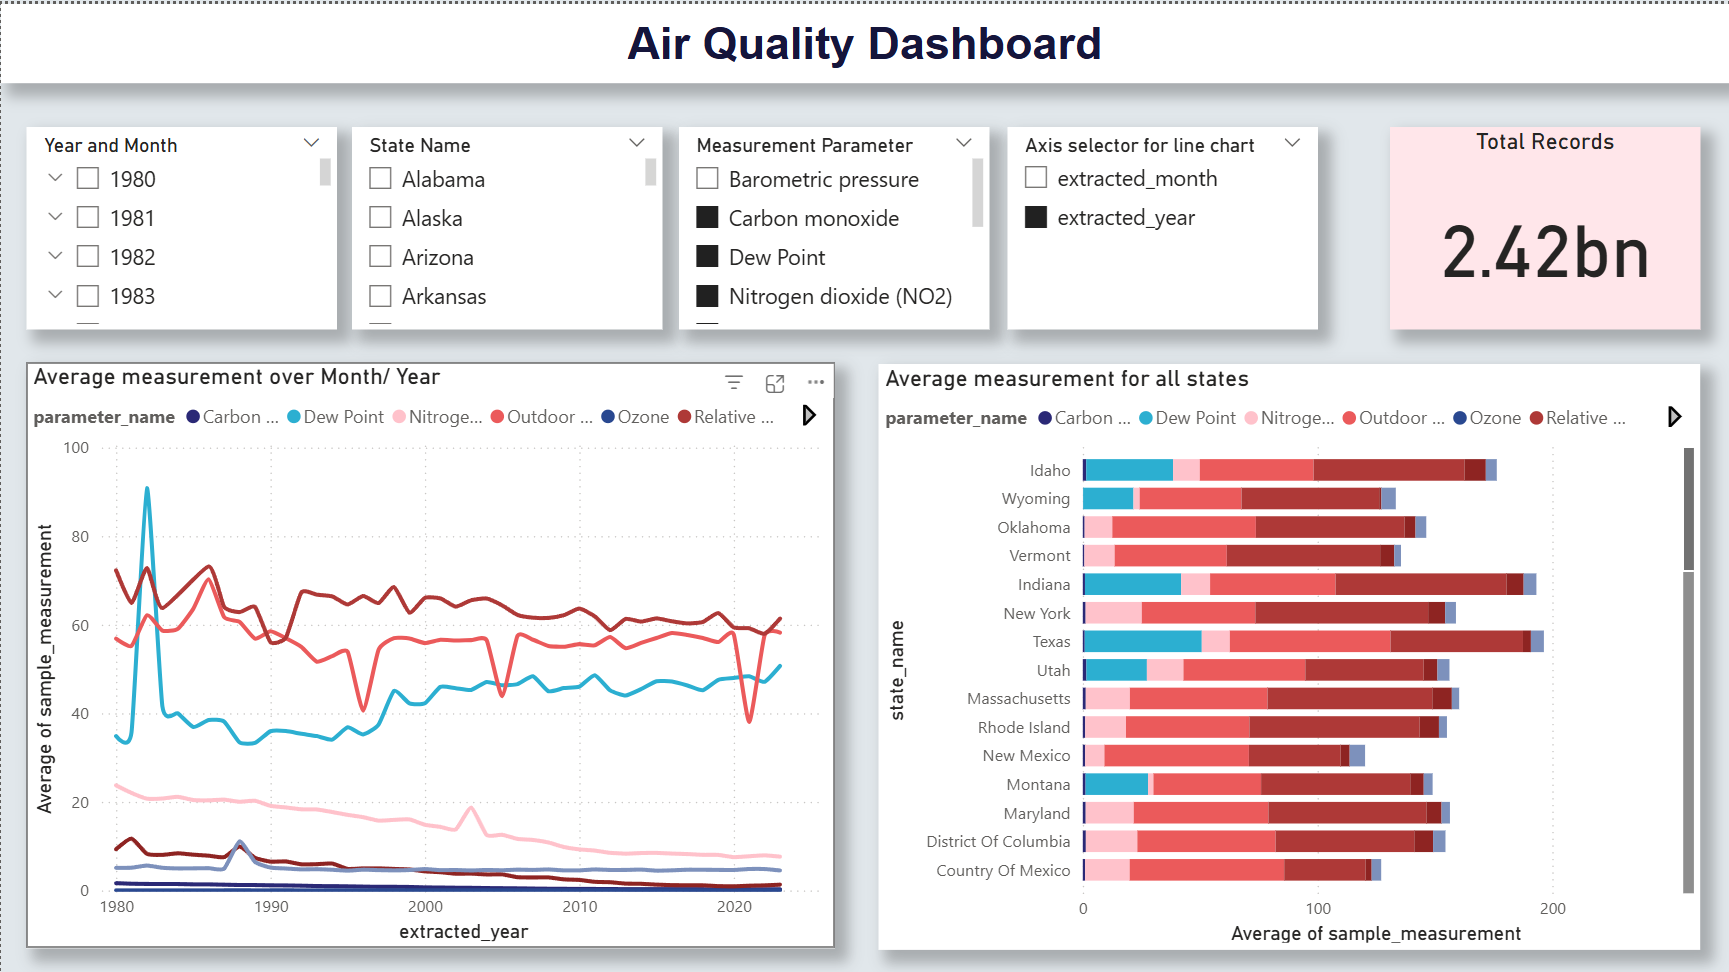

What the dashboard file says about the page in this screenshot:
{"tool":"powerbi","page":{"name":"AQS Summary","canvas":[1280,720],"ordinal":1},"visuals":[{"type":"shape","box":[0,0,1280,58.8],"z":0},{"type":"slicer","fields":{"Values":["combined_metrics_with_date.extracted_year","combined_metrics_with_date.extracted_month"]},"box":[18.8,91.2,230,150],"z":0},{"type":"slicer","fields":{"Values":["combined_metrics_with_date.state_name"]},"box":[260,91.2,230,150],"z":1000},{"type":"card","title":"Total Records","fields":{"Values":["CountNonNull(combined_metrics_with_date.fact_surr_key)"]},"box":[1028.8,91.2,230,150],"z":1001},{"type":"lineChart","title":"Average measurement over Month/ Year","fields":{"Y":["Avg(combined_metrics_with_date.sample_measurement)"],"Series":["combined_metrics_with_date.parameter_name"],"Category":["combined_metrics_with_date.extracted_year"]},"box":[18.8,265,598.8,433.8],"z":1002},{"type":"barChart","title":"Average measurement for all states","fields":{"Series":["combined_metrics_with_date.parameter_name"],"Category":["combined_metrics_with_date.state_name"],"Y":["Avg(combined_metrics_with_date.sample_measurement)"]},"box":[650,266.2,608.8,433.8],"z":1003},{"type":"slicer","fields":{"Values":["combined_metrics_with_date.parameter_name"]},"box":[502.5,91.2,230,150],"z":2000},{"type":"slicer","fields":{"Values":["x_axis_selector.x_axis_selector"]},"box":[745,91.2,230,150],"z":2001}]}

Visuals, with their boxes in screenshot pixels (x1, y1, x2, y2), scaled from the page's 1280x720 canvas onto the 1729x972 screenshot:
shape: 0:0:1728:79
slicer - combined_metrics_with_date.extracted_year x combined_metrics_with_date.extracted_month: 25:123:336:326
slicer - combined_metrics_with_date.state_name: 351:123:662:326
"Total Records" card: 1390:123:1700:326
"Average measurement over Month/ Year" lineChart: 25:358:834:943
"Average measurement for all states" barChart: 878:359:1700:945
slicer - combined_metrics_with_date.parameter_name: 679:123:989:326
slicer - x_axis_selector.x_axis_selector: 1006:123:1317:326
